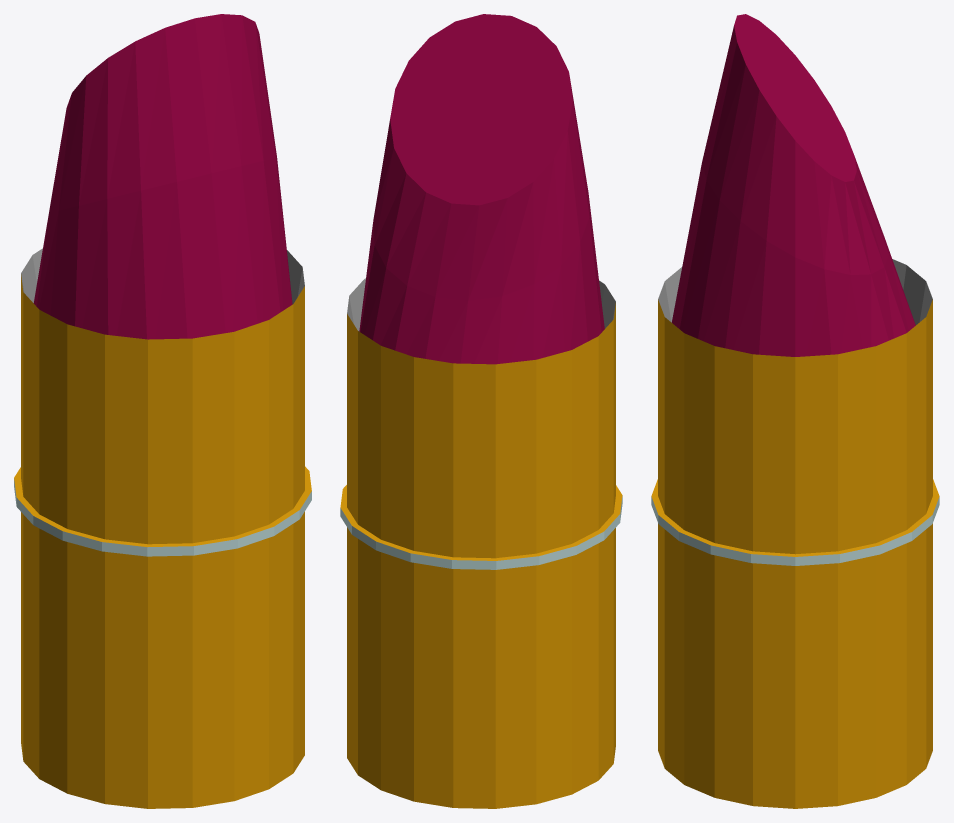
Rendered from lipstick.fbx.
3 views of the same model, side by side, from view 1: azimuth 30°, elevation 25°; view 2: azimuth 150°, elevation 25°; view 3: azimuth 270°, elevation 25° (orthographic). The views are drawn at different scales.
Parts seen in each view (by area): view 1: lipstick; view 2: lipstick; view 3: lipstick.
Boxes of the visible parts, x1=… form: lipstick: x1=14, y1=14, x2=311, y2=808; lipstick: x1=340, y1=14, x2=622, y2=808; lipstick: x1=651, y1=14, x2=939, y2=808.
Bounding box in the file's own units: 10.9 × 30.29 × 10.9.
